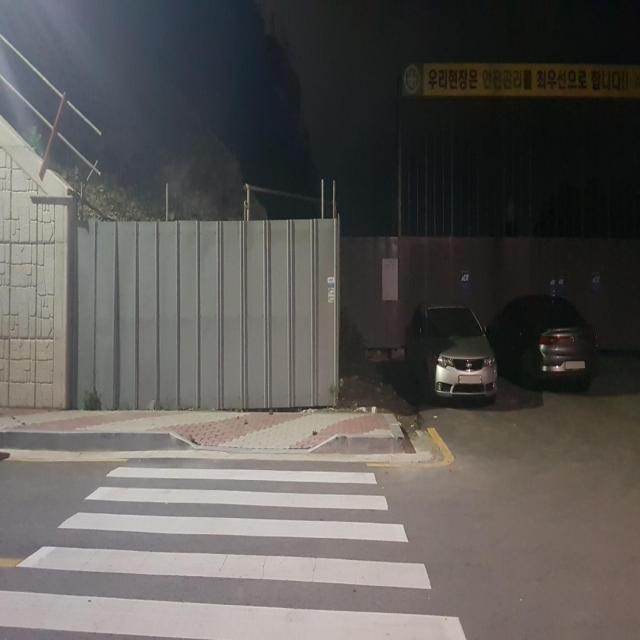횡단보도: (0, 461, 469, 640)
